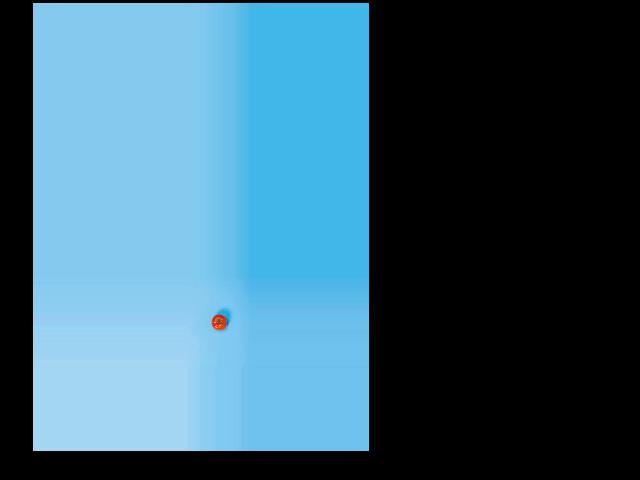tomato: (211, 313, 227, 329)
